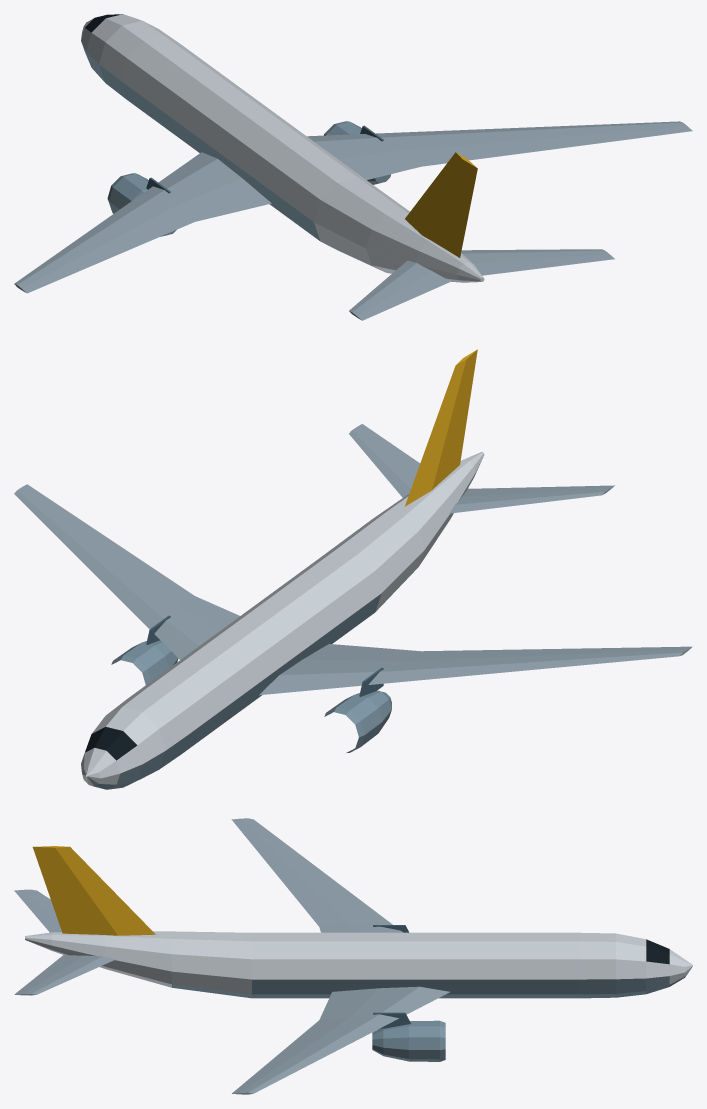
3 renders of one model, top to bottom at view 1: azimuth 30°, elevation 25°; view 2: azimuth 150°, elevation 25°; view 3: azimuth 270°, elevation 25°, orthographic. The views are drawn at different scales.
Parts seen in each view (by area): view 1: lod0; view 2: lod0; view 3: lod0.
Boxes of the visible parts, x1,y1,x2,y2 form: lod0: [14, 14, 692, 320]; lod0: [14, 349, 692, 789]; lod0: [14, 818, 692, 1094].
Size of what is drawn, in the model's own units: 0.9561 by 0.2739 by 1.
